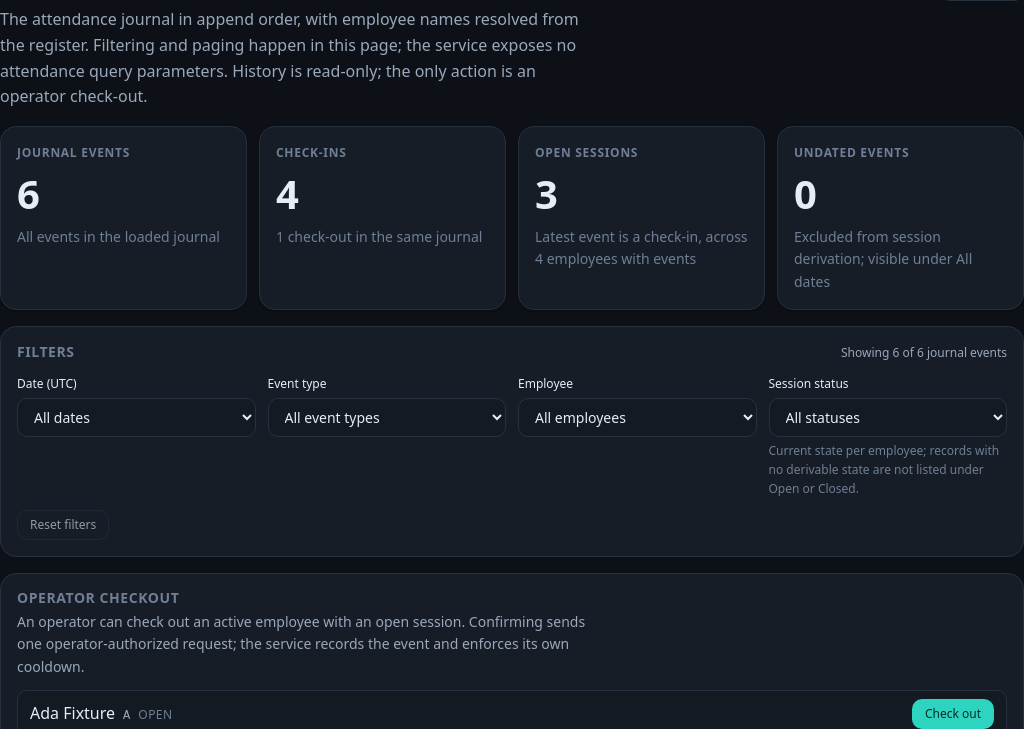
Test case: checkout success › refreshes the journal and removes eligibility only after success
Click the button with aria-label "Check out Ada Fixture".
click(953, 714)  # box [912,699,994,728]
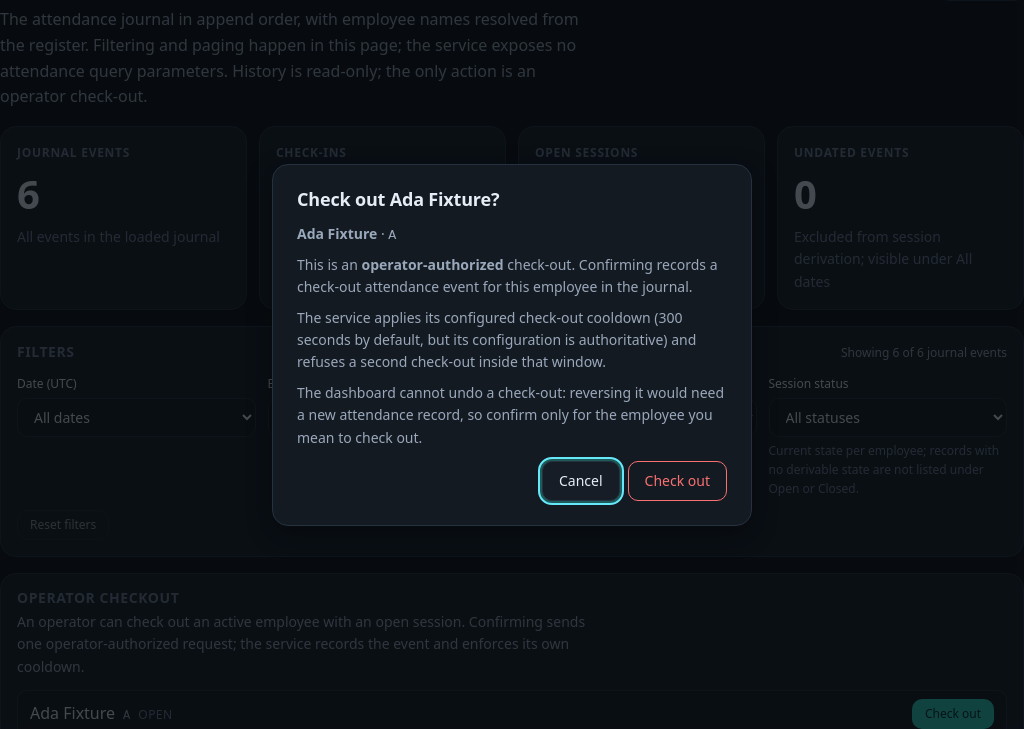
Click the button "Check out".
click(677, 481)  # box [628,461,727,501]
(page scrolled)
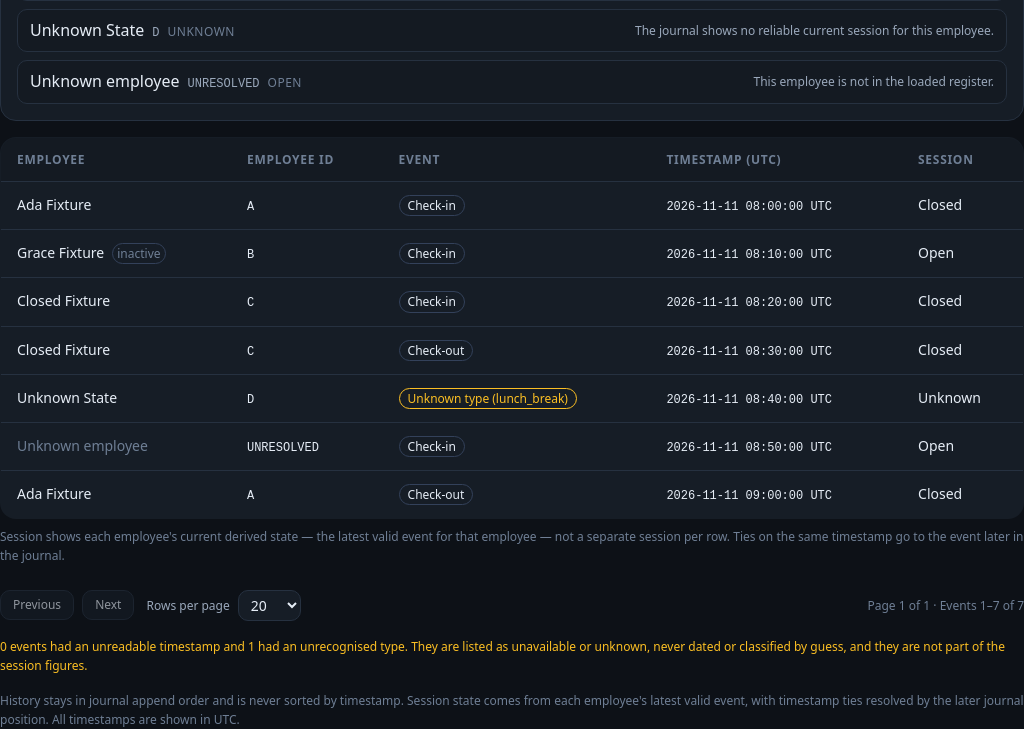
expect the heading "Check out Ada Fixture" is gone: met
expect the text "2026-11-11 09:00:00 UTC" is shown: met, box [666,489,832,503]
expect the dialog is gone: met
